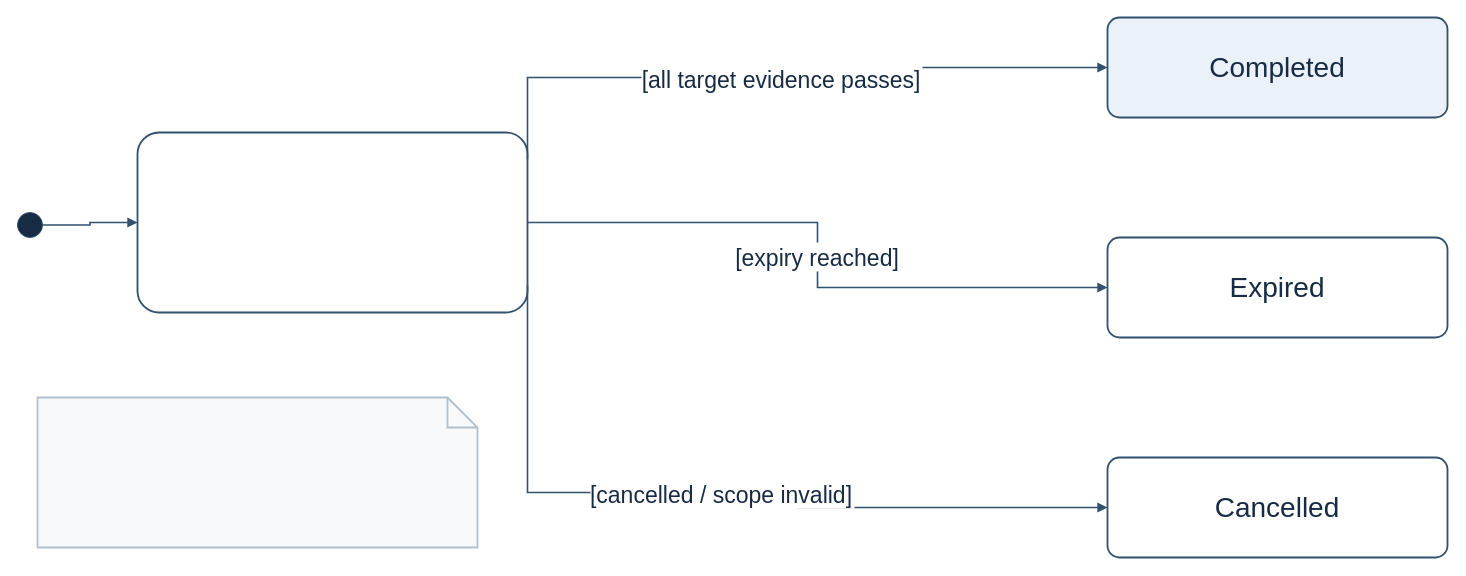
Some shapes in this 1466 by 576 pixel diagram are drawn without their labels. The centre of each missing label's shape, as x and y in pixels:
A message increments attempts. An attempt limit does not complete the goal.: the point at 257,472
Active May produce bounded jobs: the point at 332,222
